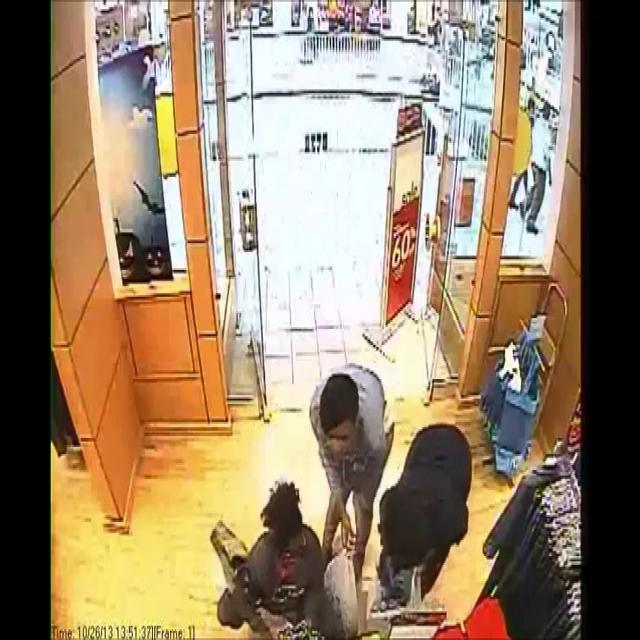normal: (298, 361, 393, 516)
shoplifting: (202, 438, 339, 640), (350, 426, 467, 640)
